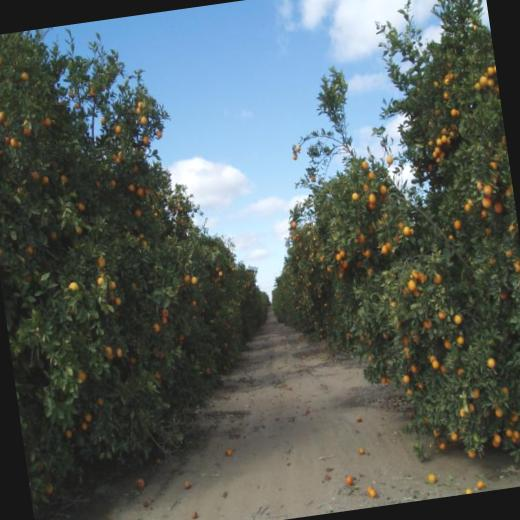Grape: (474, 64, 498, 91), (364, 478, 382, 497), (448, 309, 463, 325), (442, 68, 453, 84), (345, 473, 356, 489), (482, 182, 494, 196), (138, 472, 150, 485), (488, 350, 496, 365), (452, 108, 462, 116), (478, 483, 486, 489), (358, 448, 366, 454), (226, 448, 232, 456), (432, 82, 439, 88), (511, 431, 519, 436), (426, 476, 434, 480), (504, 429, 508, 436)
